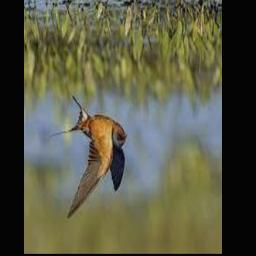Swallow: (49, 95, 127, 219)
